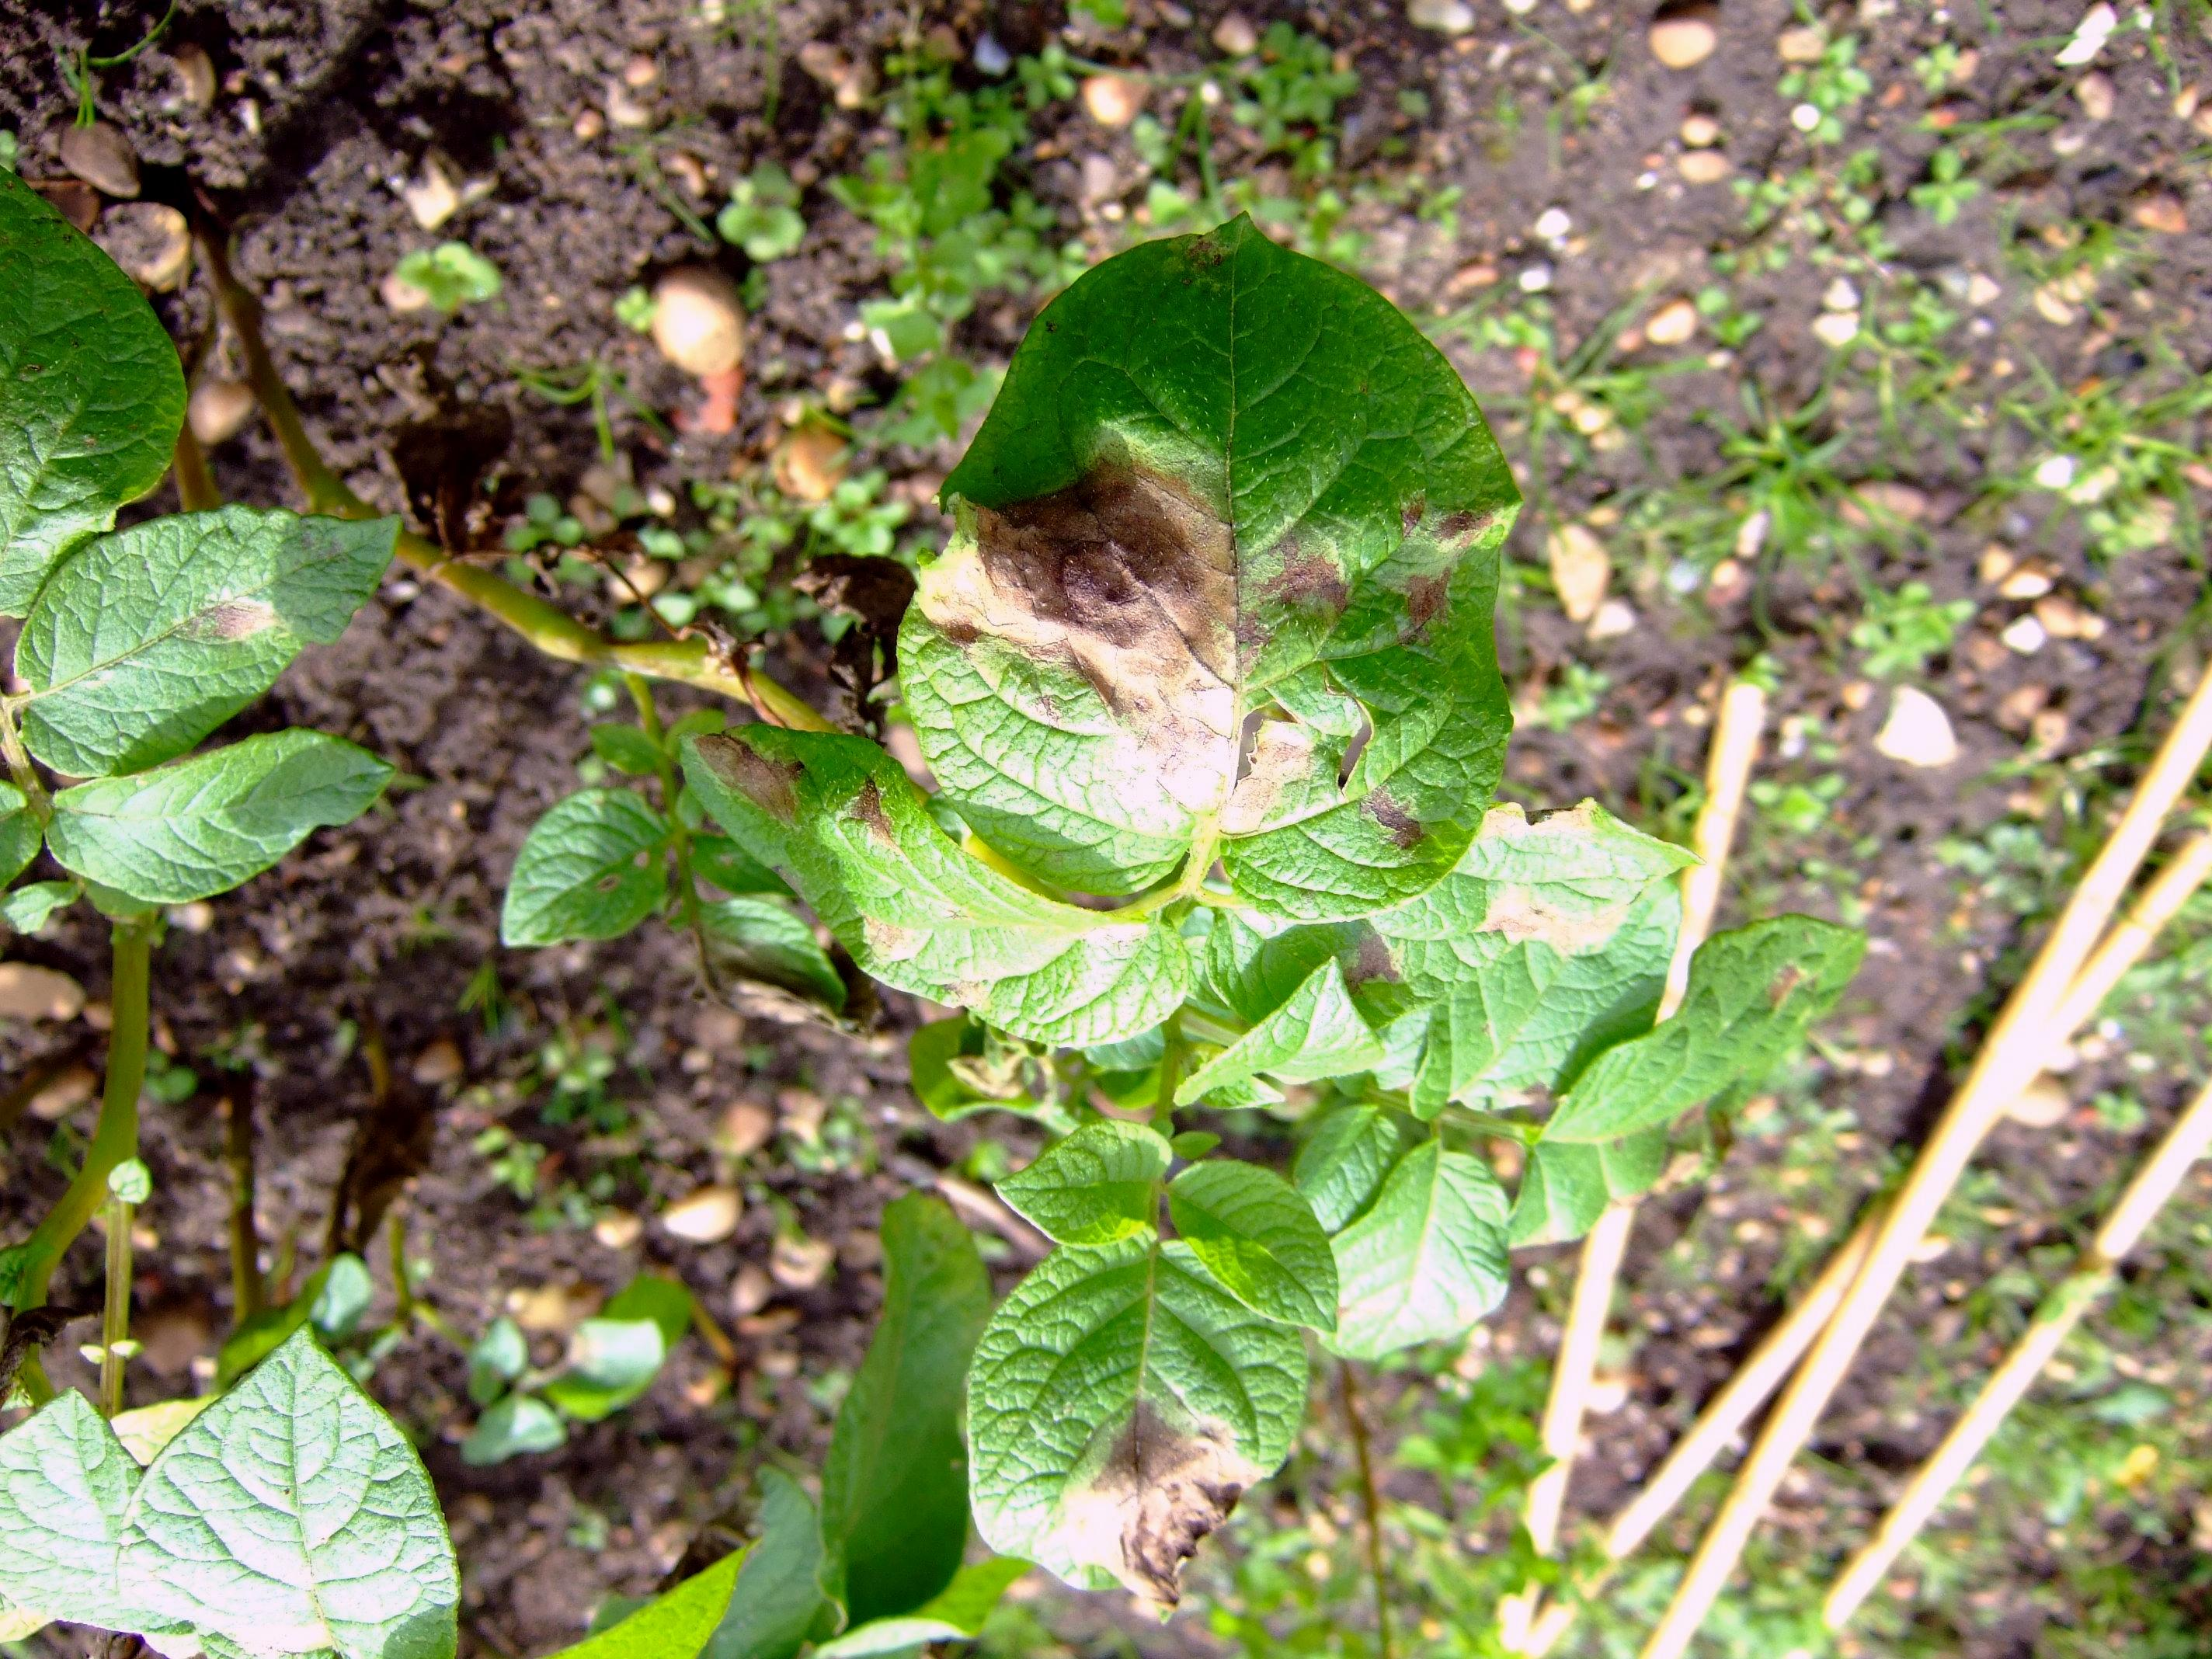Tomato leaf late blight: (897, 251, 1554, 917)
